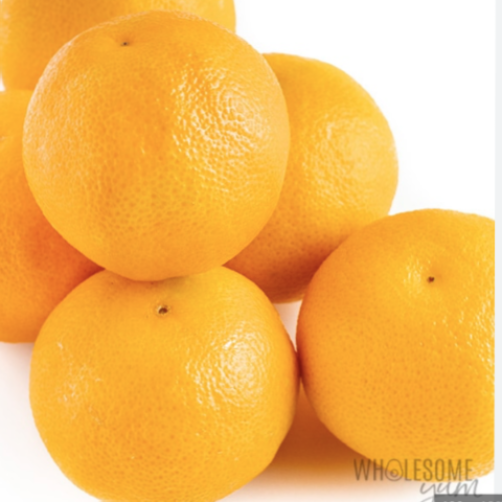orange: (14, 254, 341, 502), (12, 12, 308, 282), (291, 165, 502, 482)
